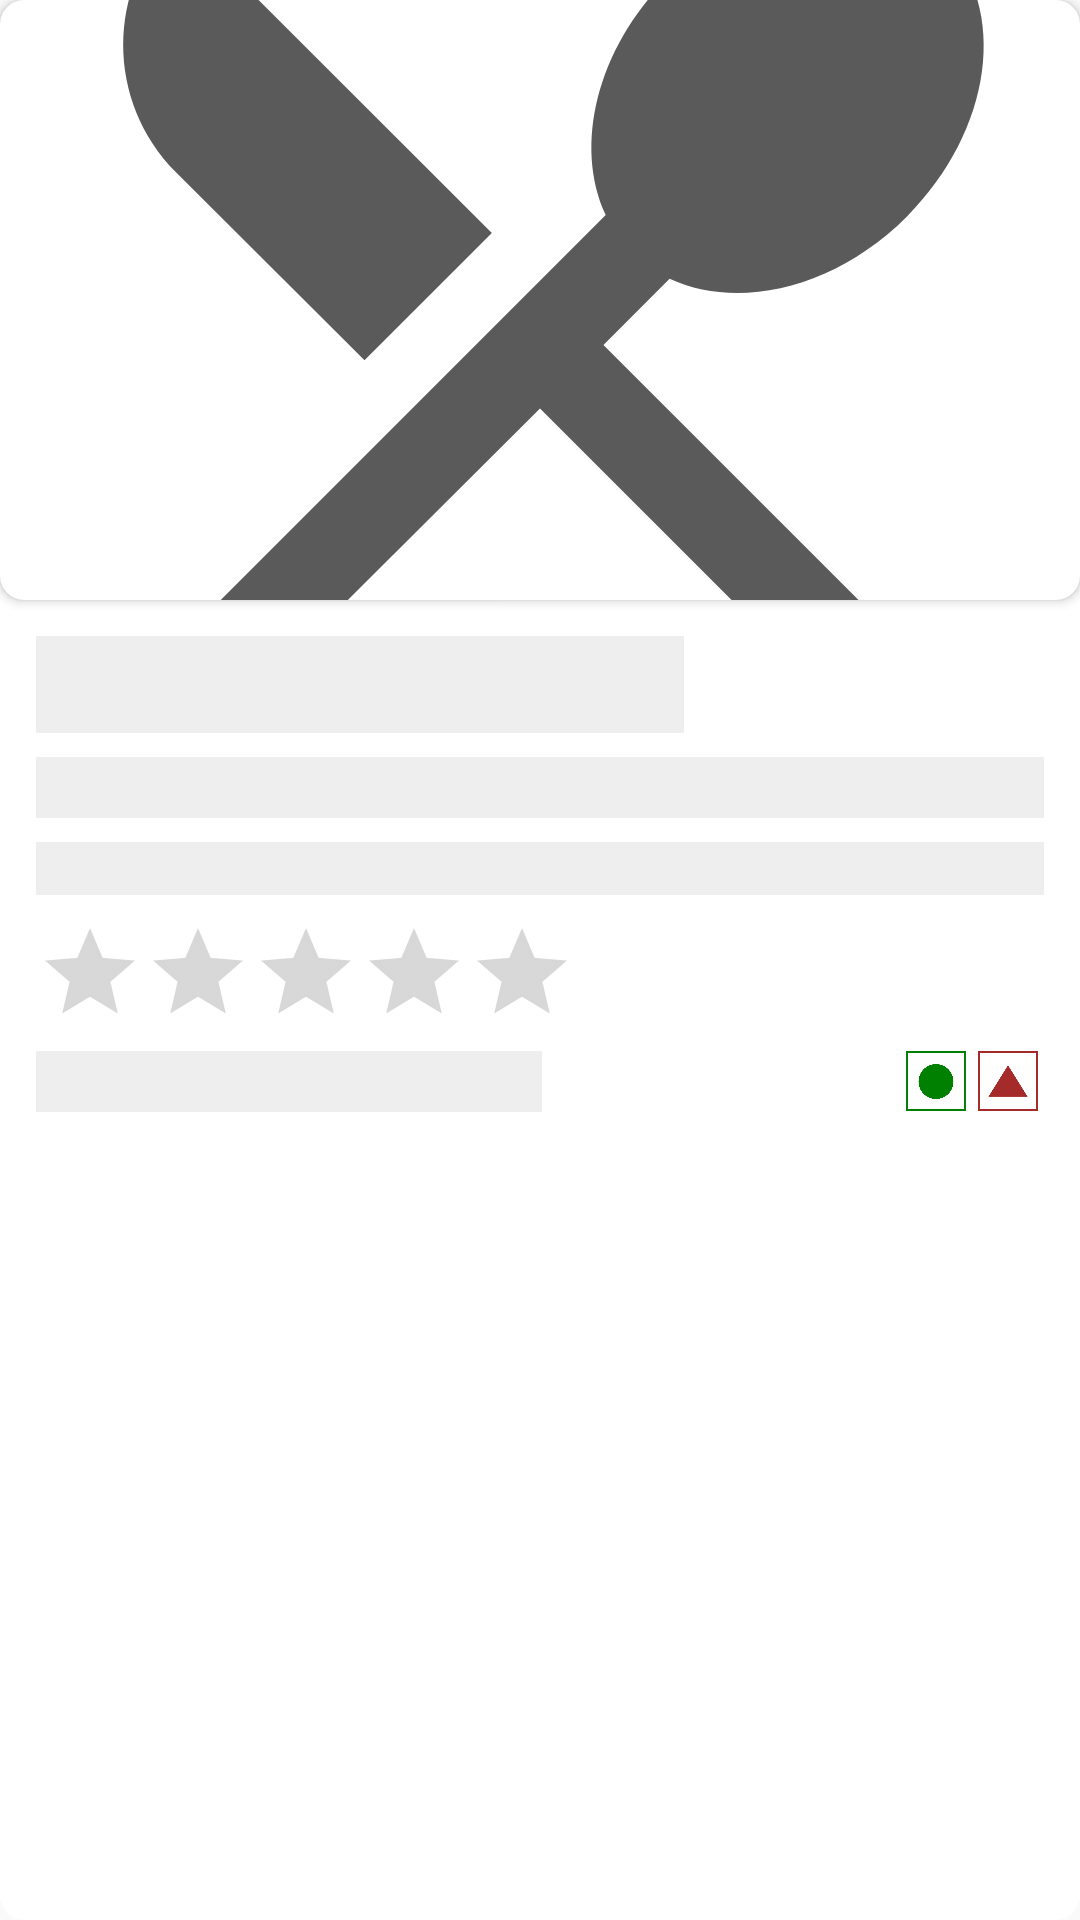

Icons on this 1080px×1920px Android screen, each with its box as [left=x1, top=y1, right=x2, bottom=y2]:
non veg: [left=978, top=1051, right=1038, bottom=1111]
veg: [left=906, top=1051, right=966, bottom=1111]
